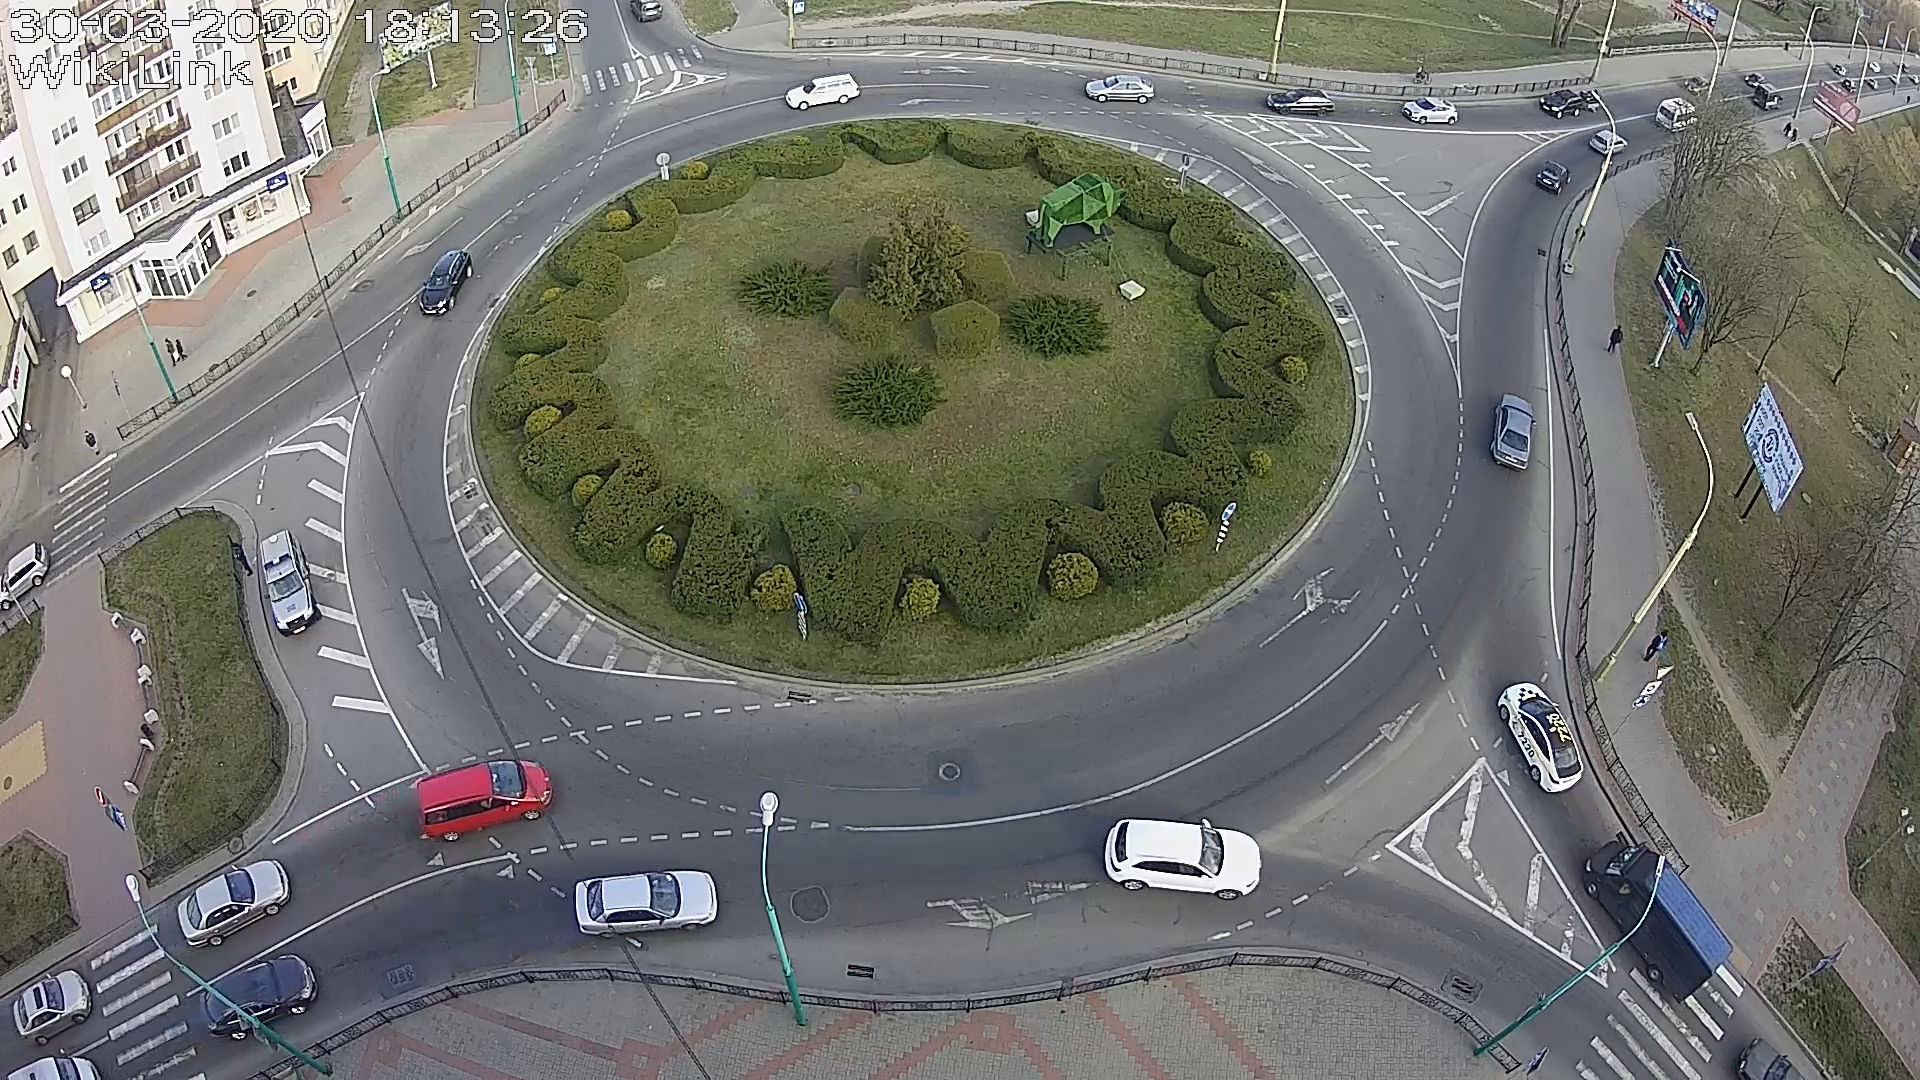car: (1584, 840, 1733, 1004), (1102, 818, 1262, 901), (415, 760, 555, 843), (177, 858, 291, 948), (199, 953, 316, 1040), (575, 870, 717, 940), (1495, 682, 1584, 794), (258, 529, 322, 637), (11, 969, 92, 1048), (1490, 393, 1538, 471), (419, 249, 473, 316), (1, 542, 51, 611), (785, 73, 861, 111), (1085, 74, 1155, 104), (1266, 88, 1337, 117), (1402, 96, 1458, 124), (1536, 160, 1572, 196), (1540, 88, 1582, 119), (1589, 131, 1629, 160)
